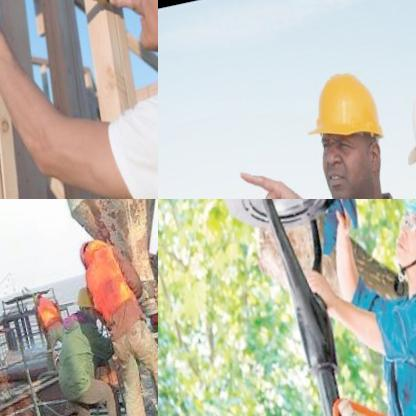helmet: (289, 46, 406, 199), (89, 0, 158, 97), (380, 199, 416, 296), (72, 282, 104, 328)
